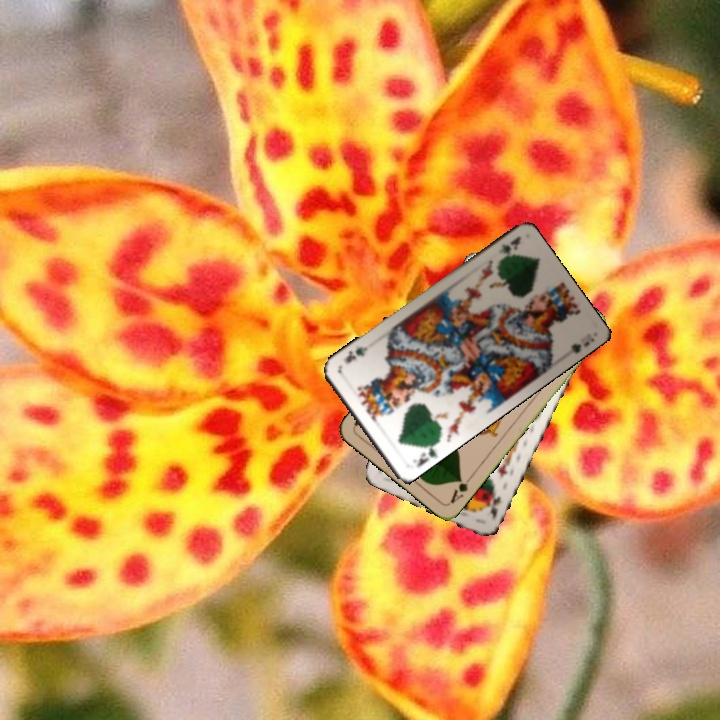GA: (446, 471, 476, 506)
GK: (409, 439, 439, 470), (494, 232, 524, 257)
SK: (484, 488, 504, 523)
